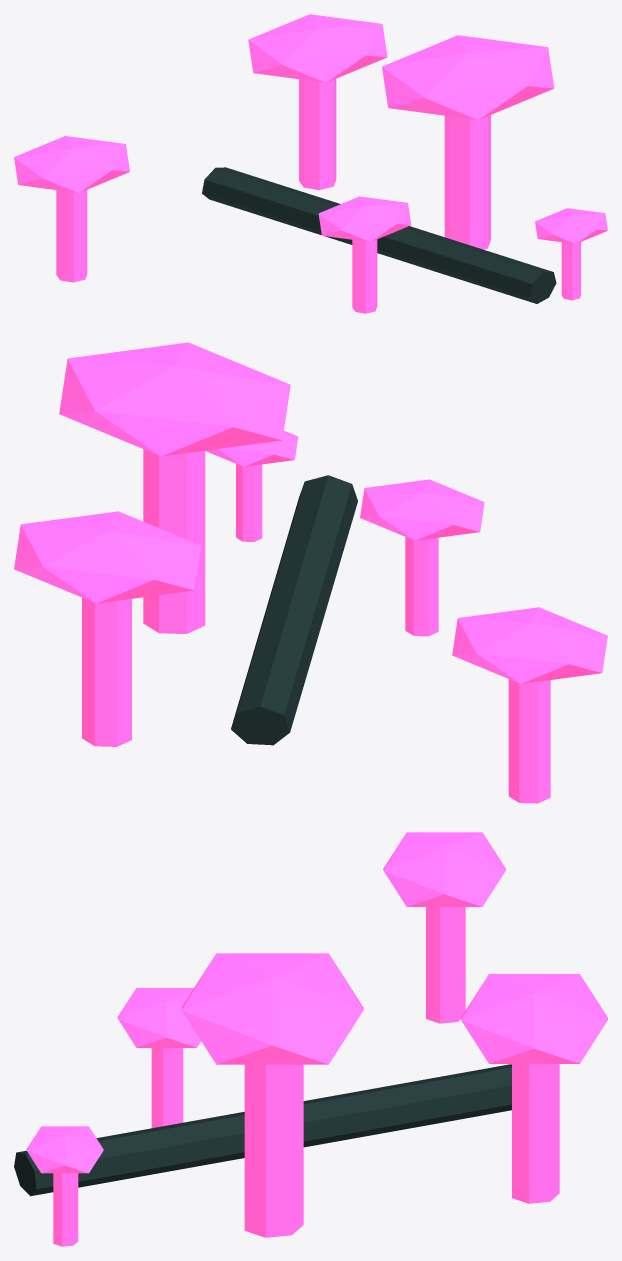
The model's file is df_v2_mushroom_cluster_small_a.glb.
The picture shows the model from 3 angles, top to bottom: view 1: azimuth 30°, elevation 25°; view 2: azimuth 150°, elevation 25°; view 3: azimuth 270°, elevation 25°; orthographic projection. The views are drawn at different scales.
Parts seen in each view (by area): view 1: glow_mushroom_0_cap, mushroom_root_nest, glow_mushroom_1_cap, glow_mushroom_0_stem, glow_mushroom_2_cap, glow_mushroom_1_stem, glow_mushroom_3_cap, glow_mushroom_2_stem, glow_mushroom_4_cap, glow_mushroom_3_stem, glow_mushroom_4_stem; view 2: glow_mushroom_0_cap, mushroom_root_nest, glow_mushroom_1_cap, glow_mushroom_2_cap, glow_mushroom_0_stem, glow_mushroom_1_stem, glow_mushroom_3_cap, glow_mushroom_2_stem, glow_mushroom_3_stem, glow_mushroom_4_stem, glow_mushroom_4_cap; view 3: mushroom_root_nest, glow_mushroom_0_cap, glow_mushroom_1_cap, glow_mushroom_0_stem, glow_mushroom_2_cap, glow_mushroom_1_stem, glow_mushroom_2_stem, glow_mushroom_3_cap, glow_mushroom_4_cap, glow_mushroom_3_stem, glow_mushroom_4_stem.
Boxes of the visible parts, x1=… form: glow_mushroom_0_cap: x1=382, y1=35, x2=554, y2=119; mushroom_root_nest: x1=202, y1=167, x2=556, y2=303; glow_mushroom_1_cap: x1=248, y1=14, x2=387, y2=82; glow_mushroom_0_stem: x1=444, y1=115, x2=490, y2=249; glow_mushroom_2_cap: x1=14, y1=136, x2=129, y2=192; glow_mushroom_1_stem: x1=299, y1=79, x2=336, y2=190; glow_mushroom_3_cap: x1=318, y1=196, x2=411, y2=242; glow_mushroom_2_stem: x1=56, y1=190, x2=87, y2=282; glow_mushroom_4_cap: x1=535, y1=208, x2=607, y2=243; glow_mushroom_3_stem: x1=352, y1=239, x2=377, y2=313; glow_mushroom_4_stem: x1=561, y1=242, x2=580, y2=300; glow_mushroom_0_cap: x1=59, y1=342, x2=290, y2=456; mushroom_root_nest: x1=231, y1=475, x2=357, y2=745; glow_mushroom_1_cap: x1=14, y1=511, x2=200, y2=603; glow_mushroom_2_cap: x1=452, y1=607, x2=607, y2=683; glow_mushroom_0_stem: x1=143, y1=449, x2=205, y2=633; glow_mushroom_1_stem: x1=82, y1=597, x2=131, y2=746; glow_mushroom_3_cap: x1=360, y1=479, x2=484, y2=540; glow_mushroom_2_stem: x1=508, y1=679, x2=550, y2=803; glow_mushroom_3_stem: x1=405, y1=537, x2=438, y2=636; glow_mushroom_4_stem: x1=236, y1=464, x2=262, y2=541; glow_mushroom_4_cap: x1=205, y1=430, x2=298, y2=466; mushroom_root_nest: x1=14, y1=1064, x2=511, y2=1196; glow_mushroom_0_cap: x1=181, y1=953, x2=363, y2=1064; glow_mushroom_1_cap: x1=461, y1=974, x2=607, y2=1063; glow_mushroom_0_stem: x1=244, y1=1064, x2=303, y2=1237; glow_mushroom_2_cap: x1=383, y1=832, x2=505, y2=906; glow_mushroom_1_stem: x1=512, y1=1064, x2=559, y2=1203; glow_mushroom_2_stem: x1=426, y1=907, x2=465, y2=1023; glow_mushroom_3_cap: x1=117, y1=988, x2=200, y2=1047; glow_mushroom_4_cap: x1=26, y1=1126, x2=103, y2=1173; glow_mushroom_3_stem: x1=151, y1=1048, x2=183, y2=1128; glow_mushroom_4_stem: x1=53, y1=1173, x2=78, y2=1246.
Bounding box in the file's own units: 0.939 × 0.3687 × 0.7966.
